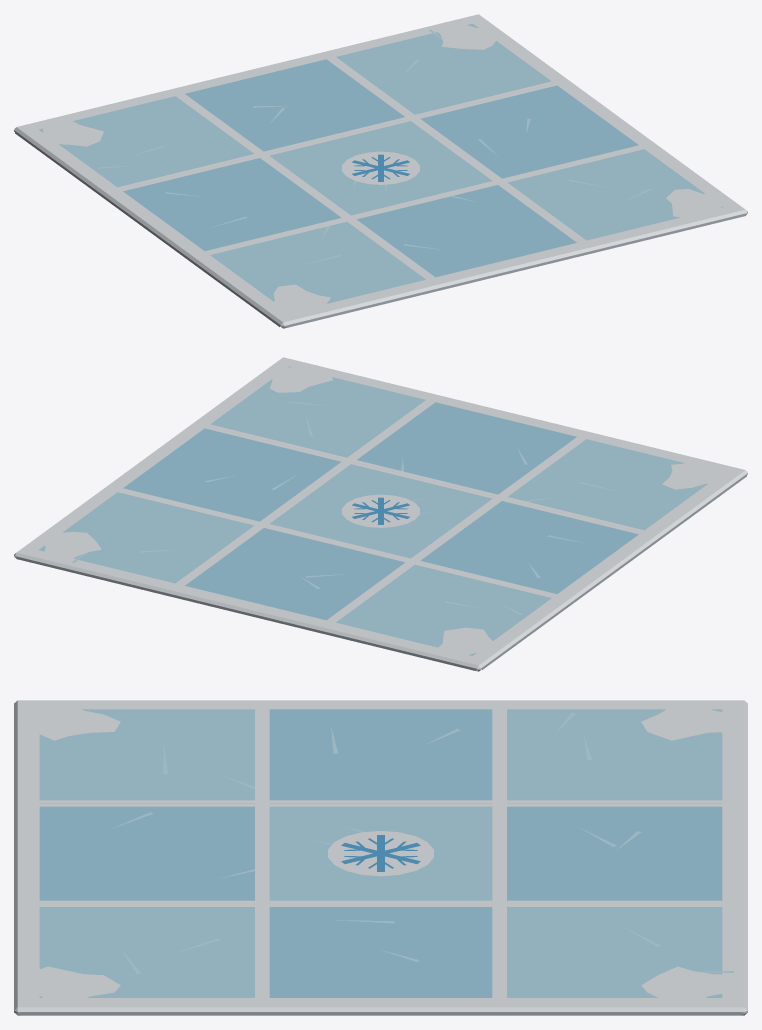
Rendered from ice-plotfloor.glb.
3 renders of one model, top to bottom at view 1: azimuth 30°, elevation 25°; view 2: azimuth 150°, elevation 25°; view 3: azimuth 270°, elevation 25°, orthographic. The views are drawn at different scales.
Parts seen in each view (by area): view 1: ice-plotfloor; view 2: ice-plotfloor; view 3: ice-plotfloor.
Part boxes in pixels (x1,y1,x2,y2): ice-plotfloor: [14, 14, 747, 328]; ice-plotfloor: [14, 357, 747, 671]; ice-plotfloor: [14, 700, 747, 1015].
Bounding box in the file's own units: 6 × 0.0792 × 6.
